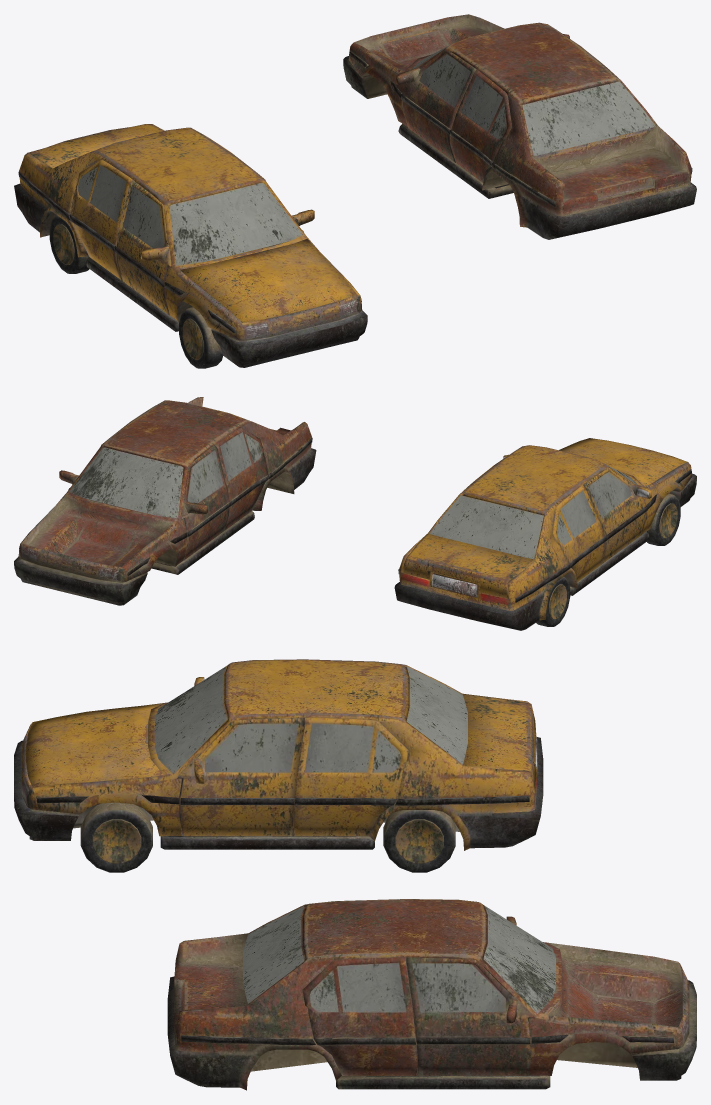
File: vrak_alfa2.glb
3 renders of one model, top to bottom at view 1: azimuth 30°, elevation 25°; view 2: azimuth 150°, elevation 25°; view 3: azimuth 270°, elevation 25°, orthographic. The views are drawn at different scales.
Parts seen in each view (by area): view 1: Object_3, Object_2; view 2: Object_3, Object_2; view 3: Object_3, Object_2.
Part boxes in pixels (x1,y1,x2,y2): Object_3: [14, 124, 367, 368]; Object_2: [343, 14, 696, 239]; Object_3: [394, 438, 696, 630]; Object_2: [14, 397, 316, 605]; Object_3: [14, 659, 543, 872]; Object_2: [167, 899, 696, 1090].
Size of the model in its own units: 8.4 by 1.83 by 7.59.
2 materials, 2 textured.
